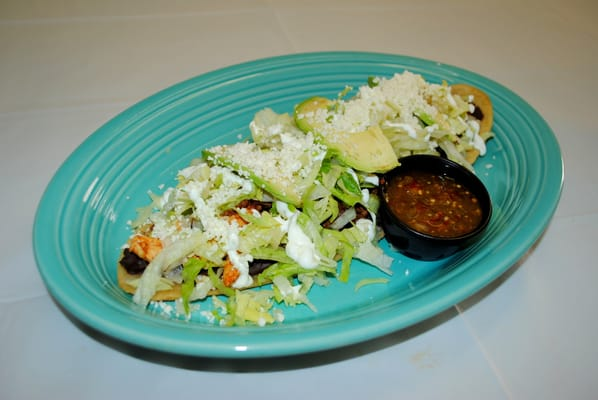curry: (27, 2, 597, 393)
